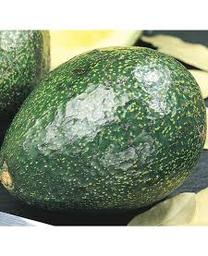avocado: (3, 47, 206, 210)
